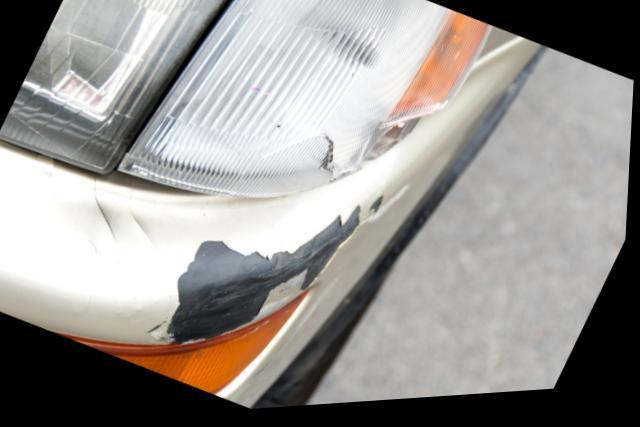lamp broken: (113, 0, 493, 199)
scratch: (149, 189, 412, 348)
